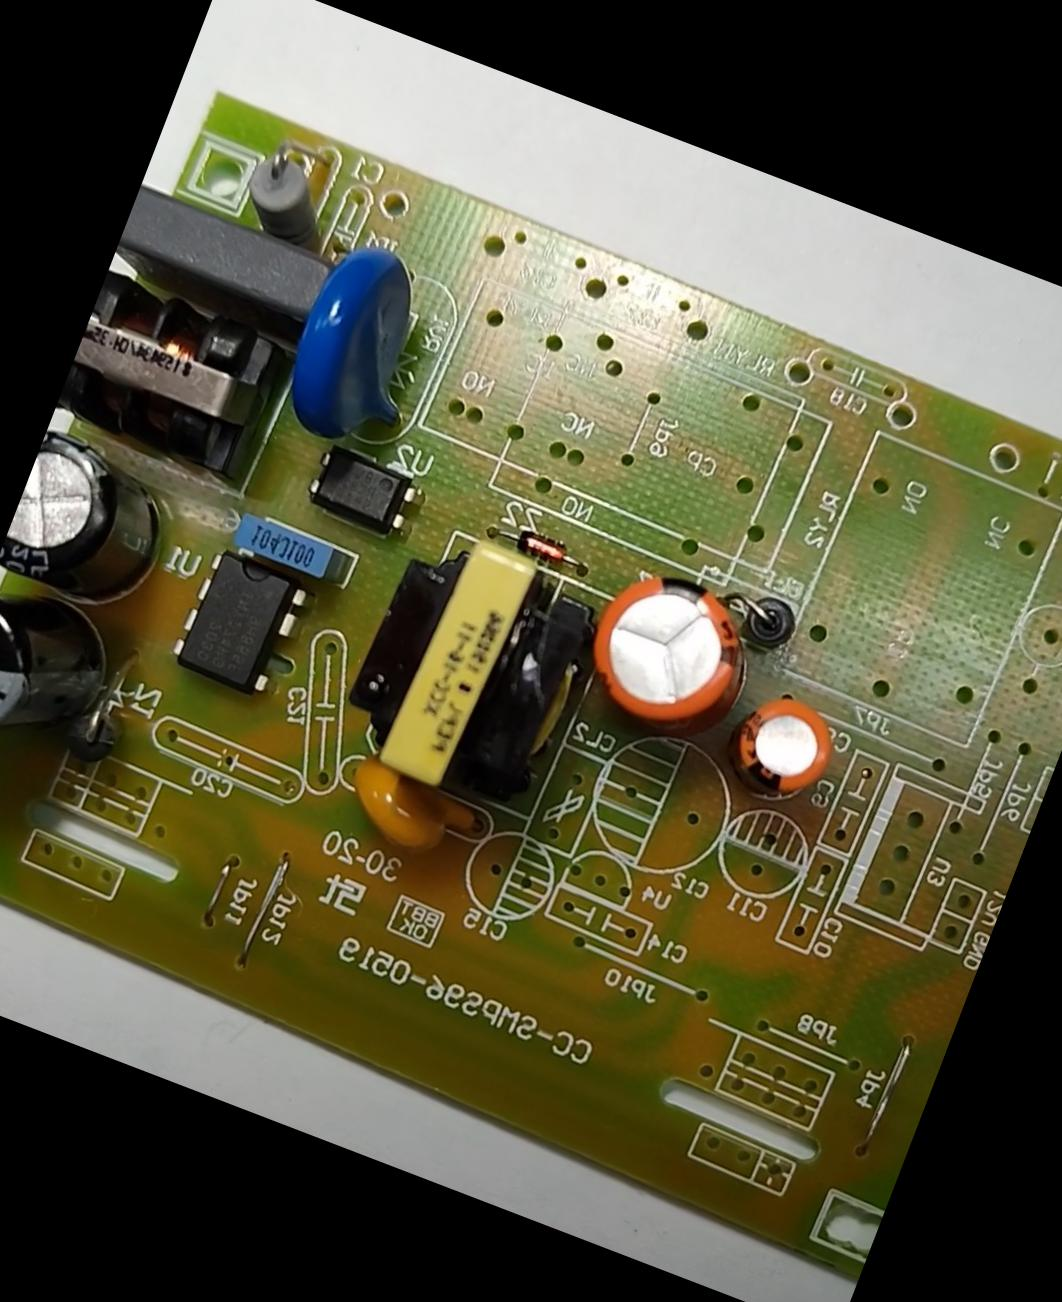Cap1: (573, 554, 776, 747)
Cap2: (720, 683, 842, 809)
Cap3: (0, 426, 193, 629)
Cap4: (0, 573, 137, 785)
MOSFET: (169, 544, 315, 700)
Mov: (264, 227, 463, 467)
Resistor: (230, 141, 344, 251)
Transformer: (329, 522, 609, 823), (52, 257, 305, 492)
